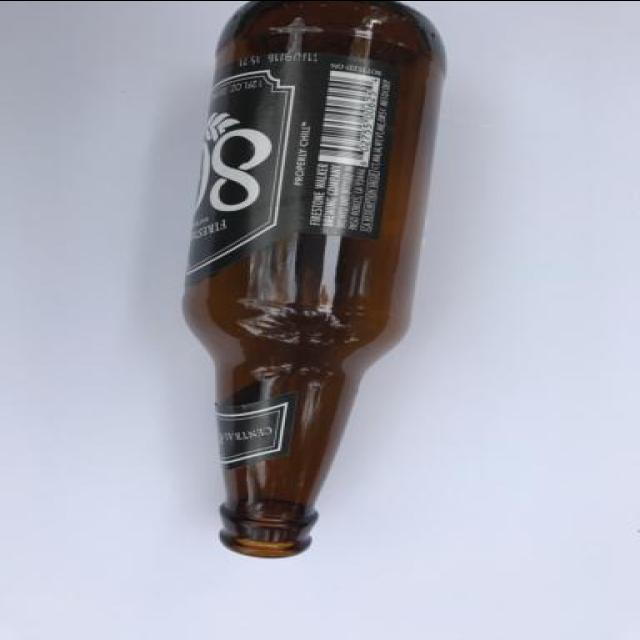glass: (172, 0, 451, 559)
